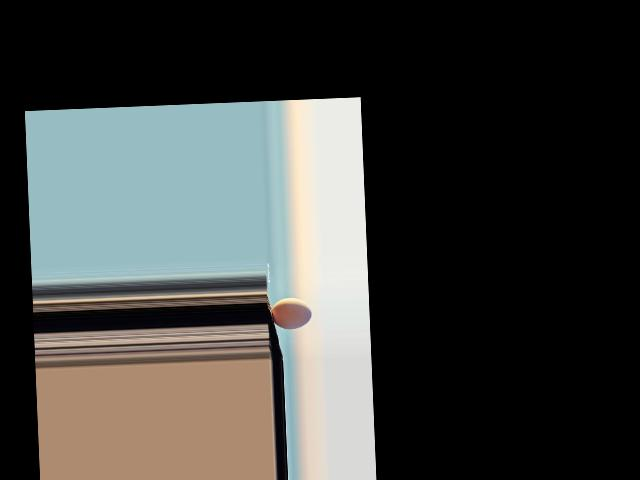egg: (271, 296, 312, 330)
